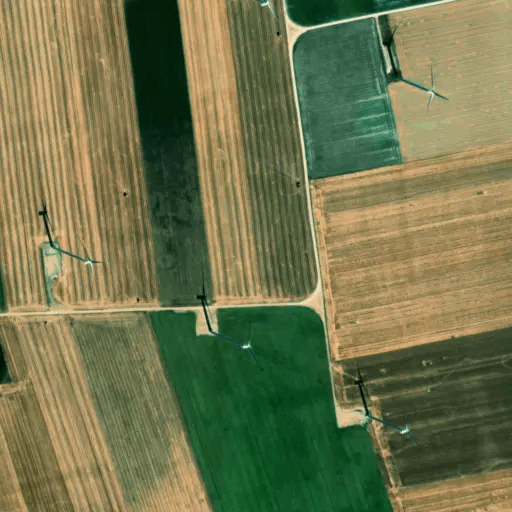wt: (192, 275, 265, 367), (350, 363, 423, 447), (380, 25, 450, 110), (37, 203, 100, 274)
